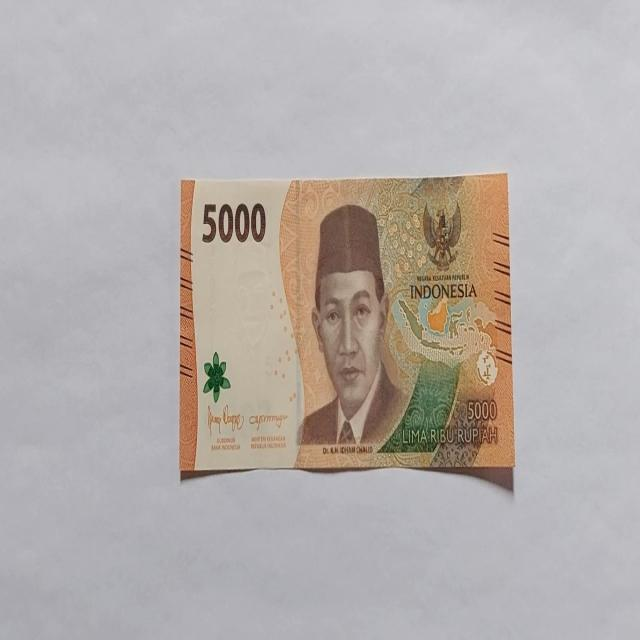lima ribu rupiah: (179, 173, 514, 480), (294, 202, 411, 456)
